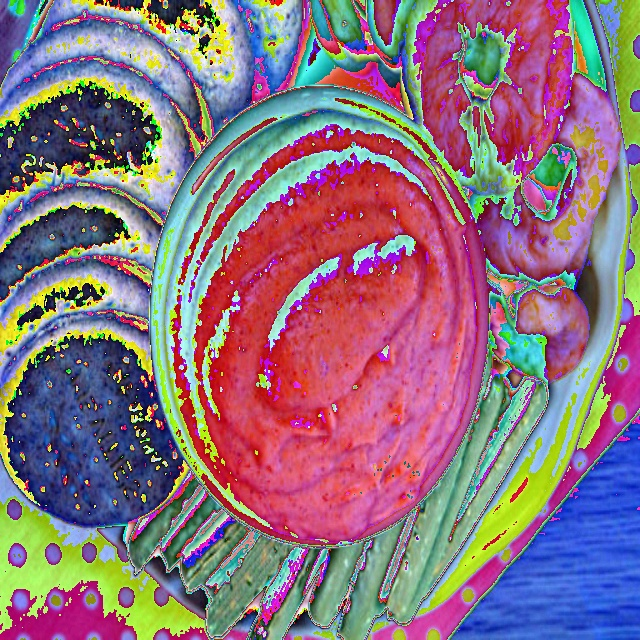background: (0, 0, 623, 640)
